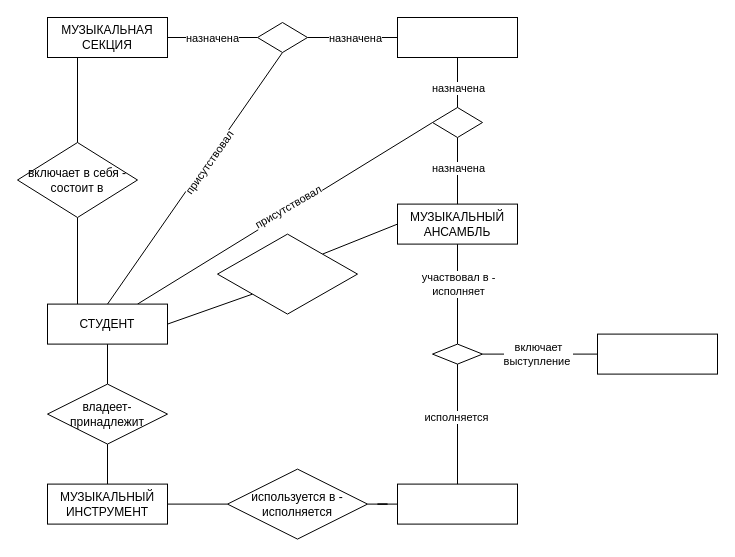
Image size: 735x557. Some labels were removed from this diagram. The centre of each missing label's shape, as x and y in pixels:
"МЕРОПРИЯТИЕ" goes at point (657, 353).
"МУЗЫКАЛЬНОЕ ПРОИЗВЕДЕНИЕ" goes at point (457, 503).
"РЕПЕТИЦИЯ" goes at point (457, 37).
"состоит в - включает в себя" goes at point (287, 273).
